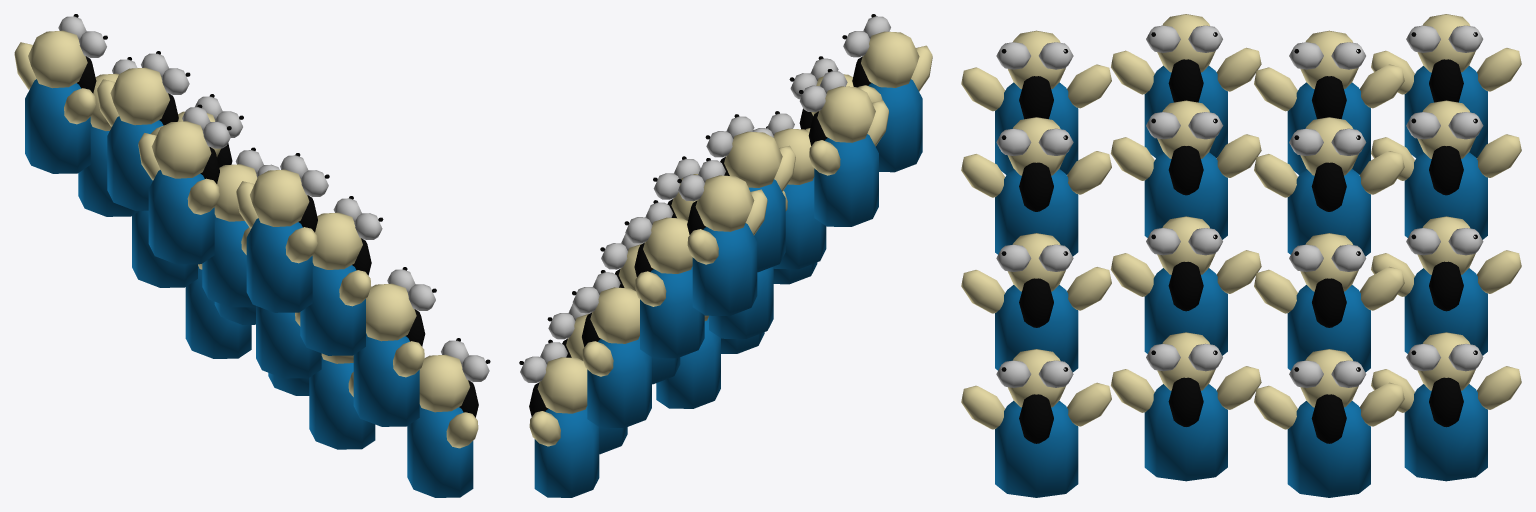
Rendered from Crowd2.glb.
The picture shows the model from 3 angles, left to right: view 1: azimuth 30°, elevation 25°; view 2: azimuth 150°, elevation 25°; view 3: azimuth 270°, elevation 25°; orthographic projection. The views are drawn at different scales.
Visible parts, largest first — view 1: Sphere.010; view 2: Sphere.010; view 3: Sphere.010.
Boxes of the visible parts, box(x1,y1,x2,y2) form: Sphere.010: box(14, 14, 490, 497); Sphere.010: box(519, 14, 932, 497); Sphere.010: box(961, 14, 1521, 497).
Size of the model in its own units: 9.35 by 12.8 by 17.24.
